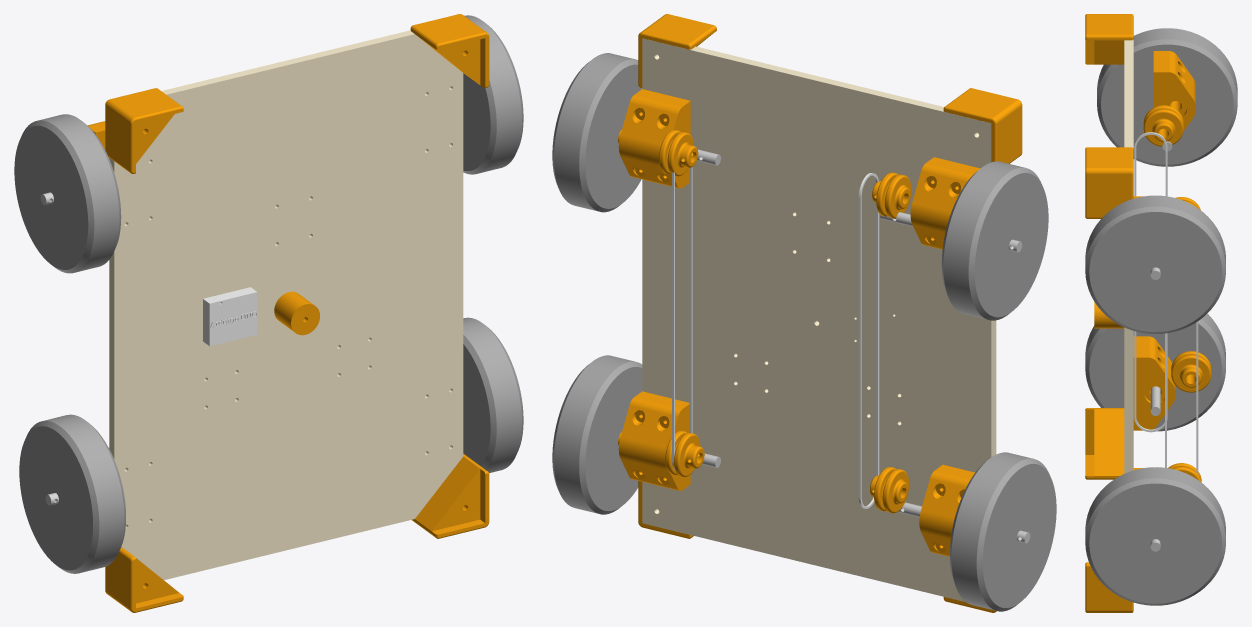
File: auto.gltf
The picture shows the model from 3 angles, left to right: view 1: azimuth 30°, elevation 25°; view 2: azimuth 150°, elevation 25°; view 3: azimuth 270°, elevation 25°; orthographic projection. The views are drawn at different scales.
Visible parts, largest first — view 1: mesh347_meshnode_347, mesh2_meshnode_2 (×4), mesh4_meshnode_4 (×4), mesh3_meshnode_3 (×4), mesh51_meshnode_51 (×4), mesh70_meshnode_70 (×2), mesh72_meshnode_72 (×2), mesh112_meshnode_112, mesh50_meshnode_50, mesh349_meshnode_349, mesh350_meshnode_350, mesh343_meshnode_343 (+1 smaller); view 2: mesh346_meshnode_346, mesh2_meshnode_2 (×4), mesh4_meshnode_4 (×4), mesh3_meshnode_3 (×4), mesh33_meshnode_33 (×4), mesh30_meshnode_30 (×4), mesh70_meshnode_70 (×2), mesh15_meshnode_15 (×2), mesh349_meshnode_349, mesh72_meshnode_72, mesh20_meshnode_20, mesh350_meshnode_350 (+2 smaller); view 3: mesh1_meshnode_1 (×4), mesh5_meshnode_5 (×4), mesh4_meshnode_4 (×4), mesh26_meshnode_26 (×2), mesh50_meshnode_50 (×2), mesh72_meshnode_72 (×2), mesh70_meshnode_70 (×2), mesh16_meshnode_16 (×2), mesh348_meshnode_348, mesh349_meshnode_349, mesh98_meshnode_98 (×2), mesh29_meshnode_29 (×2) (+7 smaller).
Part boxes in pixels (left/top/right/bottom): mesh347_meshnode_347: left=114, top=34, right=463, bottom=579; mesh2_meshnode_2 (×4): left=14, top=73, right=490, bottom=570; mesh4_meshnode_4 (×4): left=40, top=15, right=521, bottom=572; mesh3_meshnode_3 (×4): left=21, top=80, right=496, bottom=573; mesh51_meshnode_51 (×4): left=136, top=39, right=480, bottom=603; mesh70_meshnode_70 (×2): left=105, top=14, right=483, bottom=170; mesh72_meshnode_72 (×2): left=105, top=88, right=179, bottom=608; mesh112_meshnode_112: left=209, top=292, right=257, bottom=345; mesh50_meshnode_50: left=415, top=456, right=479, bottom=530; mesh349_meshnode_349: left=161, top=30, right=414, bottom=94; mesh350_meshnode_350: left=109, top=158, right=114, bottom=458; mesh343_meshnode_343: left=274, top=291, right=313, bottom=332; mesh346_meshnode_346: left=642, top=38, right=991, bottom=601; mesh2_meshnode_2 (×4): left=585, top=64, right=1056, bottom=607; mesh4_meshnode_4 (×4): left=554, top=53, right=1032, bottom=610; mesh3_meshnode_3 (×4): left=579, top=59, right=1049, bottom=611; mesh33_meshnode_33 (×4): left=620, top=103, right=966, bottom=518; mesh30_meshnode_30 (×4): left=618, top=134, right=954, bottom=539; mesh70_meshnode_70 (×2): left=644, top=14, right=1021, bottom=163; mesh15_meshnode_15 (×2): left=674, top=167, right=879, bottom=508; mesh349_meshnode_349: left=690, top=46, right=943, bottom=111; mesh72_meshnode_72: left=947, top=88, right=1016, bottom=117; mesh20_meshnode_20: left=858, top=198, right=860, bottom=497; mesh350_meshnode_350: left=991, top=320, right=996, bottom=456; mesh1_meshnode_1 (×4): left=1089, top=44, right=1233, bottom=603; mesh5_meshnode_5 (×4): left=1085, top=39, right=1237, bottom=605; mesh4_meshnode_4 (×4): left=1085, top=28, right=1237, bottom=537; mesh26_meshnode_26 (×2): left=1133, top=72, right=1195, bottom=430; mesh50_meshnode_50 (×2): left=1094, top=40, right=1124, bottom=475; mesh72_meshnode_72 (×2): left=1087, top=14, right=1131, bottom=216; mesh70_meshnode_70 (×2): left=1087, top=147, right=1131, bottom=609; mesh16_meshnode_16 (×2): left=1134, top=133, right=1198, bottom=474; mesh348_meshnode_348: left=1124, top=327, right=1133, bottom=473; mesh349_meshnode_349: left=1124, top=40, right=1133, bottom=148; mesh98_meshnode_98 (×2): left=1145, top=113, right=1209, bottom=391; mesh29_meshnode_29 (×2): left=1133, top=51, right=1168, bottom=357.
Bounding box in the file's own units: 0.5842 × 0.6199 × 0.1926.
